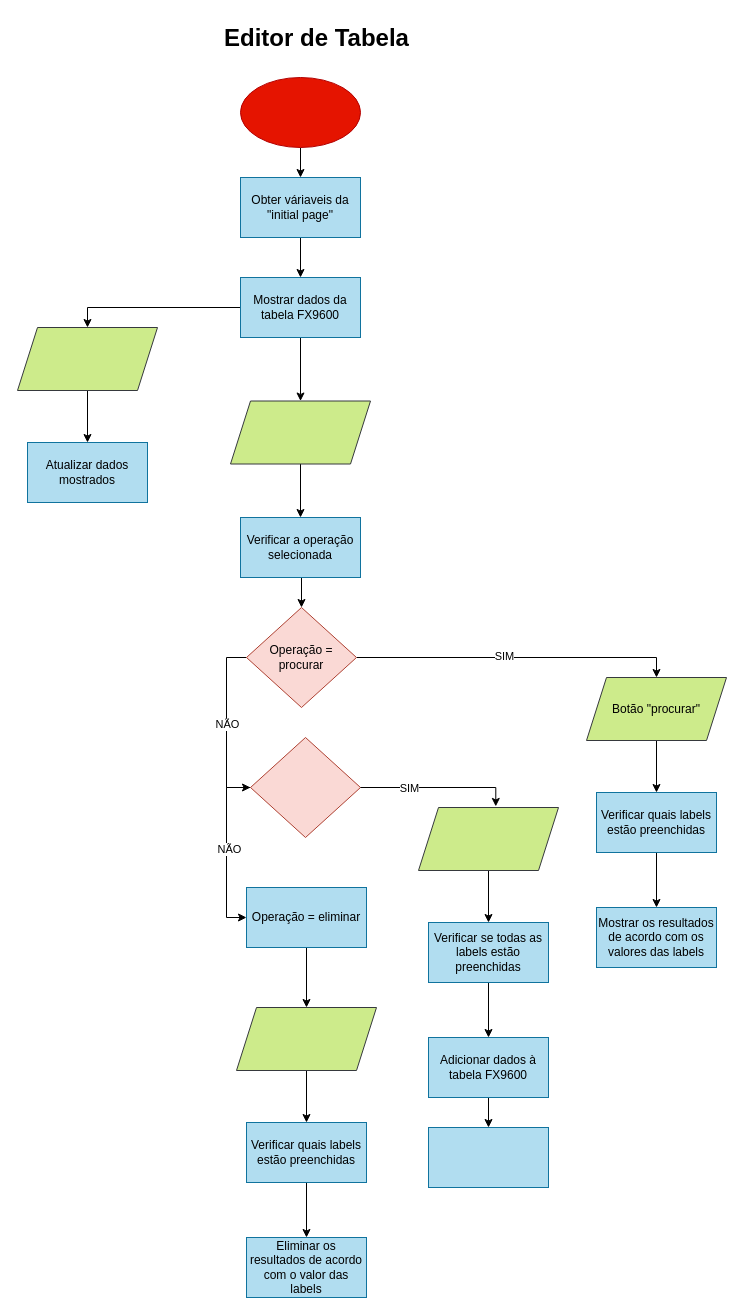
This 744x1315 diagram has some shape labels left out. Each missing label, with the centre of its shape:
Adicionar dados à tabela readInfo: point 488,1157
Botão "adicionar": point 488,838
Botão "eliminar": point 306,1038
Botão "Mostrar todas as tags": point 87,358
INICIO: point 300,112
Operação = adicionar: point 305,787
tabControl para selecionar operação a realizar: point 300,432
